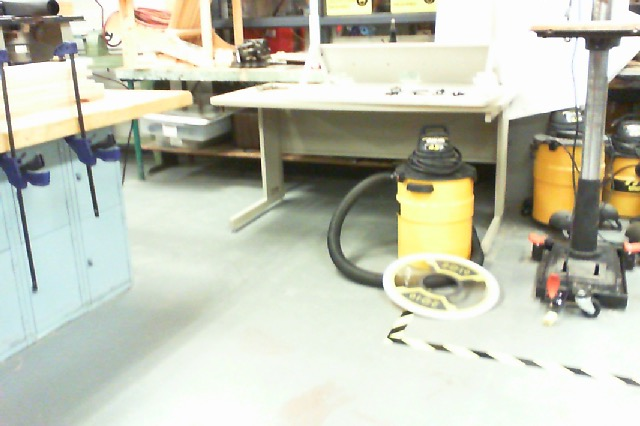Hatch: (382, 252, 499, 321)
